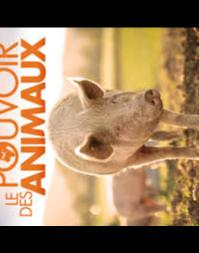Non_Gorille: (44, 59, 199, 209)
